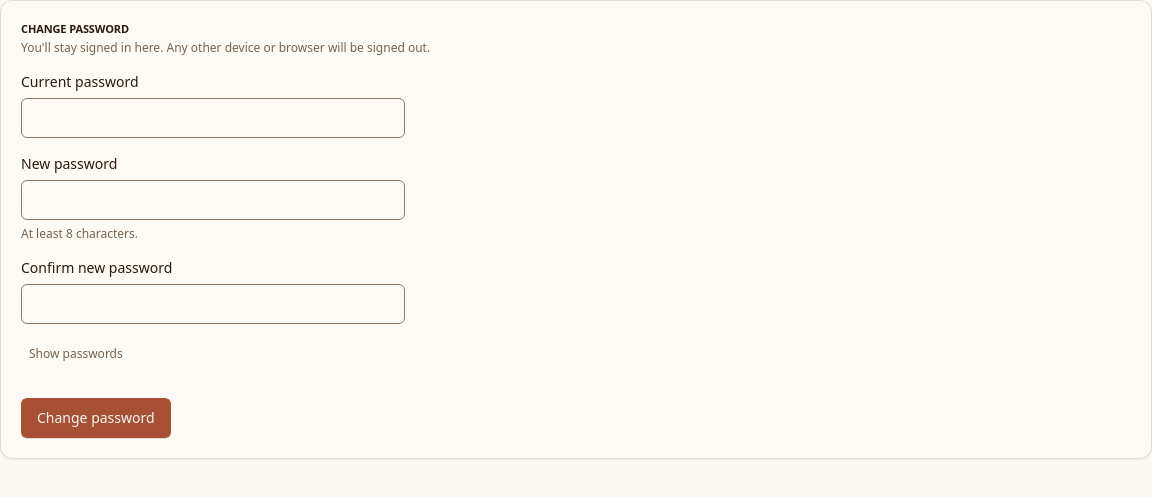
success stores the fresh access token and says so
Type "old-password" into the password field labelled "Current password" at (213, 118), box [21,98,405,138]
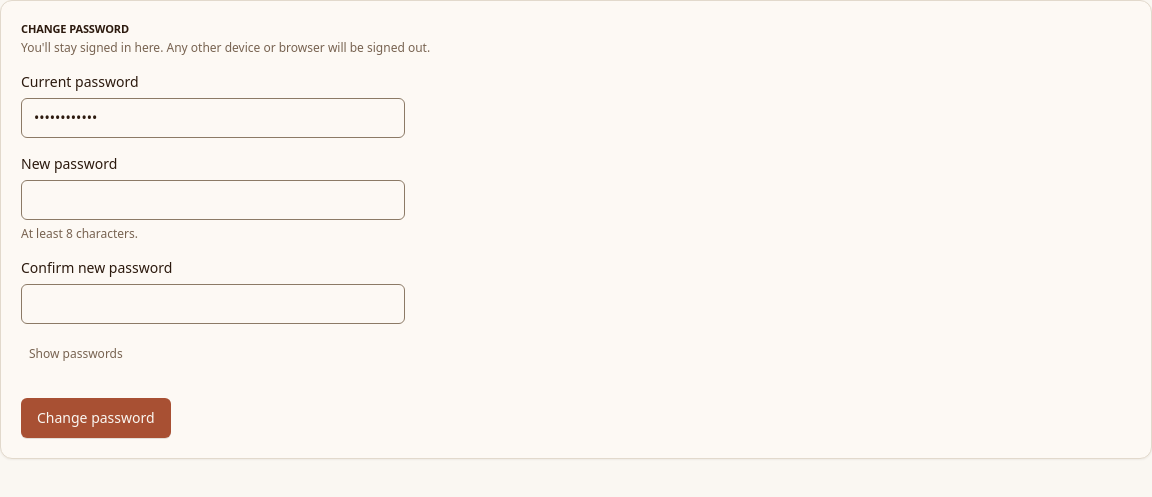
Type "new-password-1" into the password field labelled "New password" at (213, 200), box [21,180,405,220]
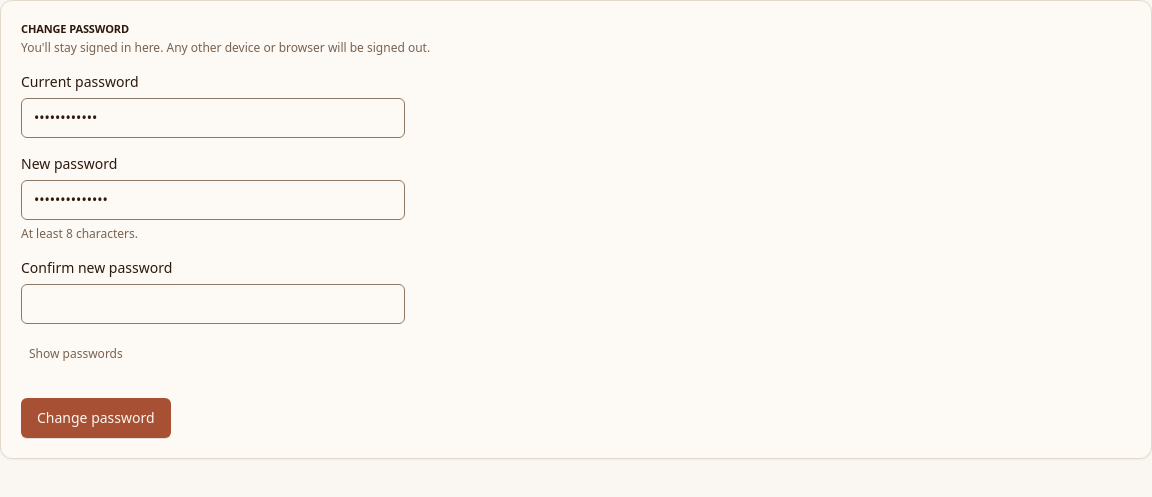
Type "new-password-1" into the password field labelled "Confirm new password" at (213, 304), box [21,284,405,324]
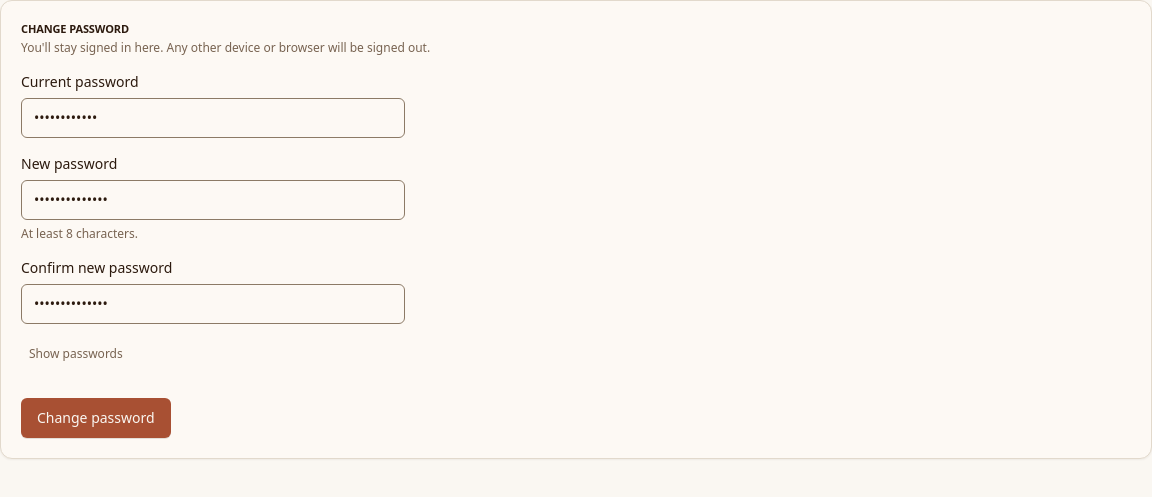
Click the button "Change password" at (96, 418), box [21,398,171,438]
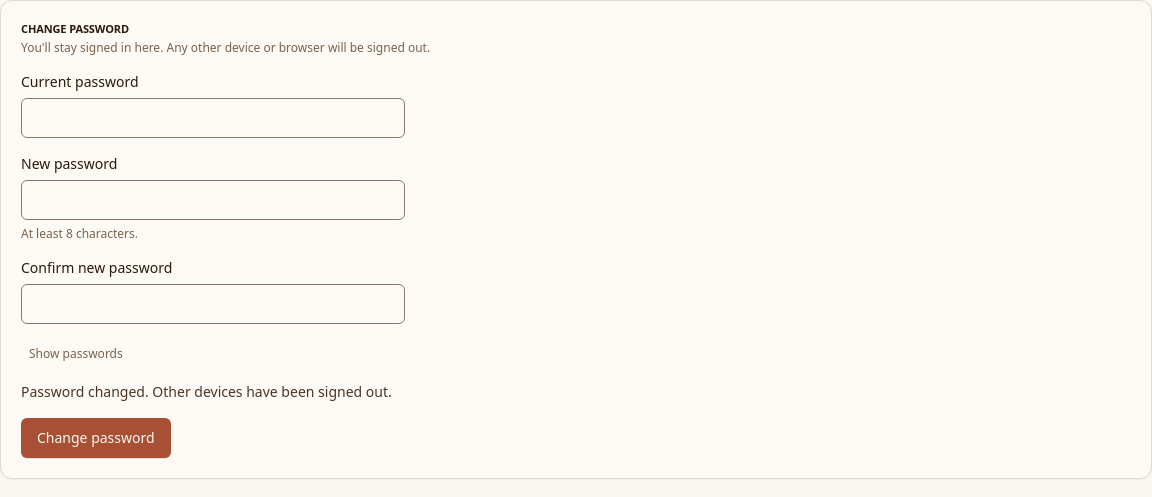
expect the text "Password changed. Other devices have been signed out." is shown: met, box [21,382,405,402]
